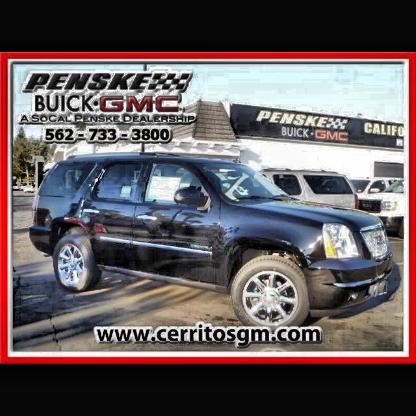GMC Yukon Hybrid SUV 2012: (31, 154, 396, 334)
